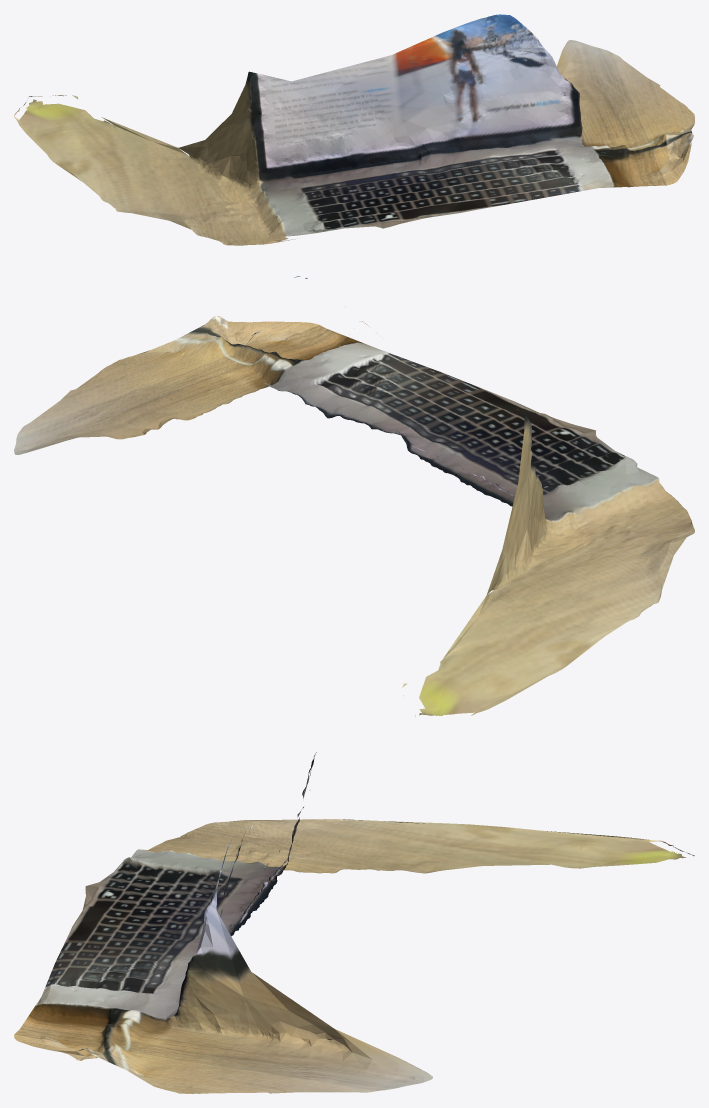
Rendered from reunion.glb.
The picture shows the model from 3 angles, top to bottom: view 1: azimuth 30°, elevation 25°; view 2: azimuth 150°, elevation 25°; view 3: azimuth 270°, elevation 25°; orthographic projection. The views are drawn at different scales.
Parts seen in each view (by area): view 1: mesh; view 2: mesh; view 3: mesh.
Boxes of the visible parts, box(x1,y1,x2,y2) form: mesh: box(14, 14, 694, 245); mesh: box(14, 276, 694, 716); mesh: box(14, 752, 694, 1093).
Size of the model in its own units: 0.5907 by 0.1717 by 0.5593.
Materials: 1 (1 with a texture image).
